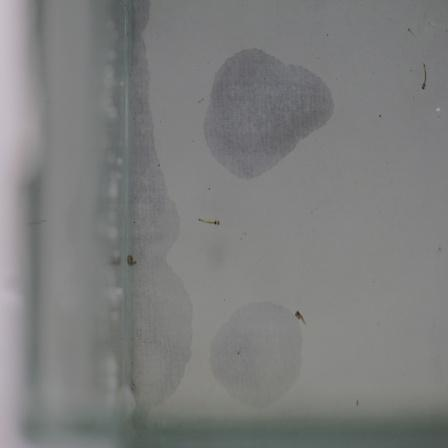Jentik-Nyamuk: (194, 209, 223, 230), (292, 304, 310, 329), (419, 58, 431, 95)
